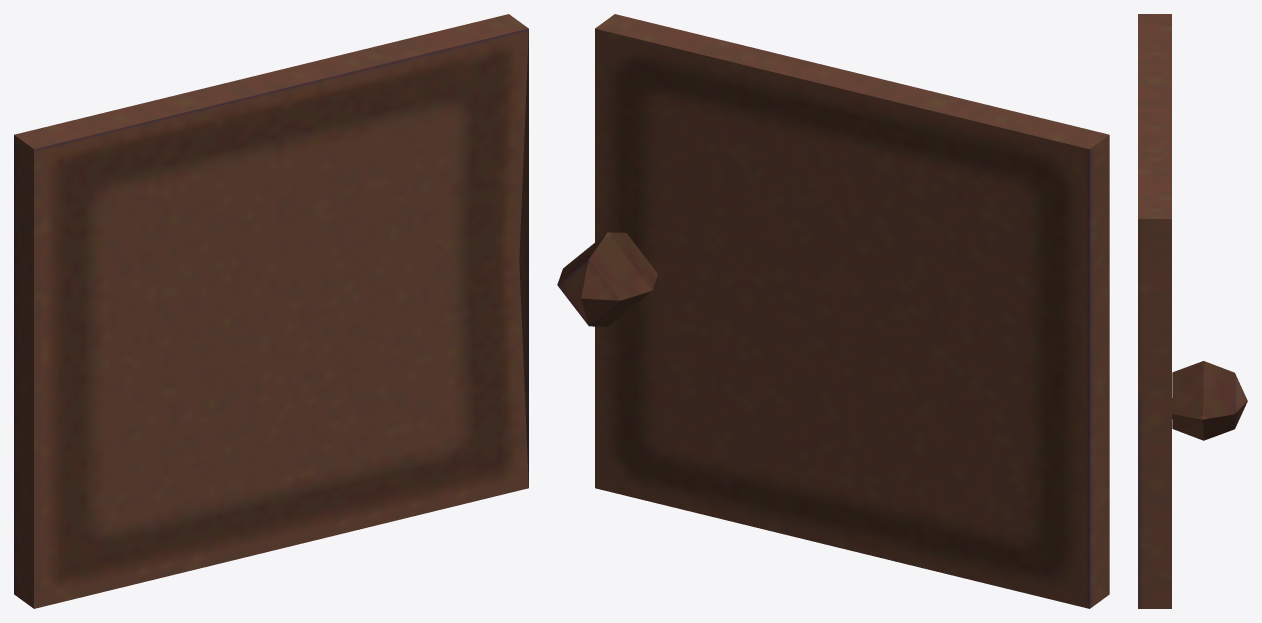
The model's file is small_dual_cabinet_rotating_door.fbx.
The picture shows the model from 3 angles, left to right: view 1: azimuth 30°, elevation 25°; view 2: azimuth 150°, elevation 25°; view 3: azimuth 270°, elevation 25°; orthographic projection. The views are drawn at different scales.
Visible parts, largest first — view 1: Dual Cabinet Door; view 2: Dual Cabinet Door; view 3: Dual Cabinet Door.
Boxes of the visible parts, bbox=[...] form: Dual Cabinet Door: bbox=[14, 14, 528, 608]; Dual Cabinet Door: bbox=[557, 14, 1109, 608]; Dual Cabinet Door: bbox=[1138, 14, 1247, 608].
Bounding box in the file's own units: 0.919 × 0.2024 × 0.7938.
Materials: 1 (1 with a texture image).
